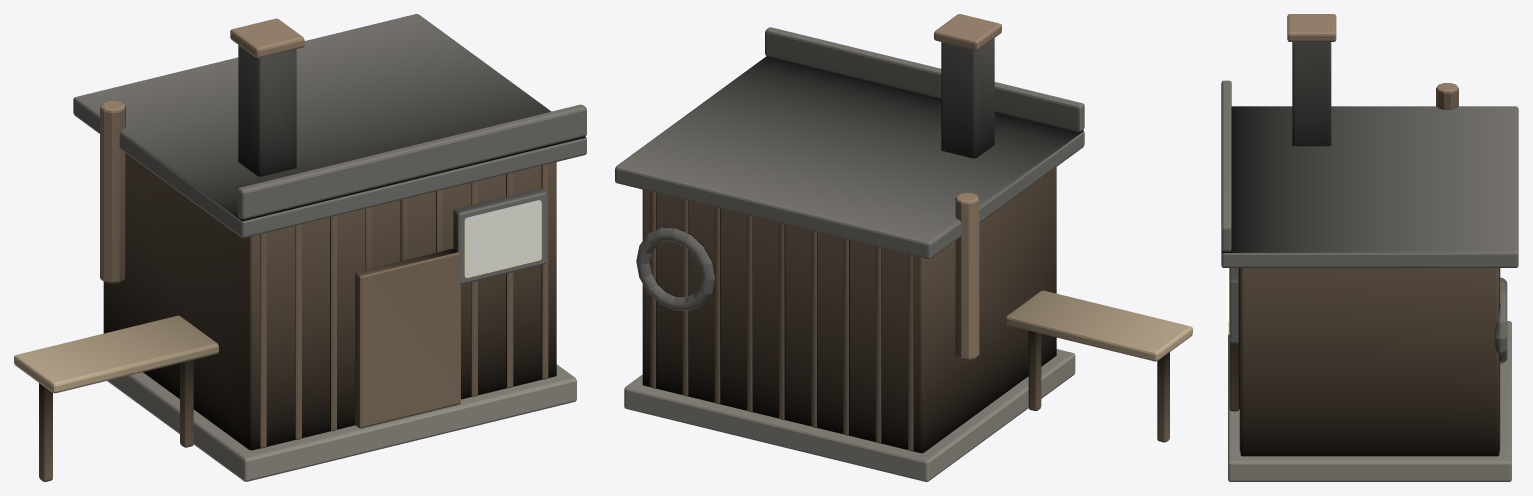
The model's file is workshop.glb.
3 renders of one model, left to right at view 1: azimuth 30°, elevation 25°; view 2: azimuth 150°, elevation 25°; view 3: azimuth 270°, elevation 25°, orthographic. The views are drawn at different scales.
Visible parts, largest first — view 1: base; view 2: base; view 3: base.
Part boxes in pixels (left/top/right/bottom): base: left=14, top=14, right=586, bottom=481; base: left=615, top=14, right=1192, bottom=481; base: left=1221, top=14, right=1518, bottom=481.
Bounding box in the file's own units: 3.9 × 2.97 × 2.3.
